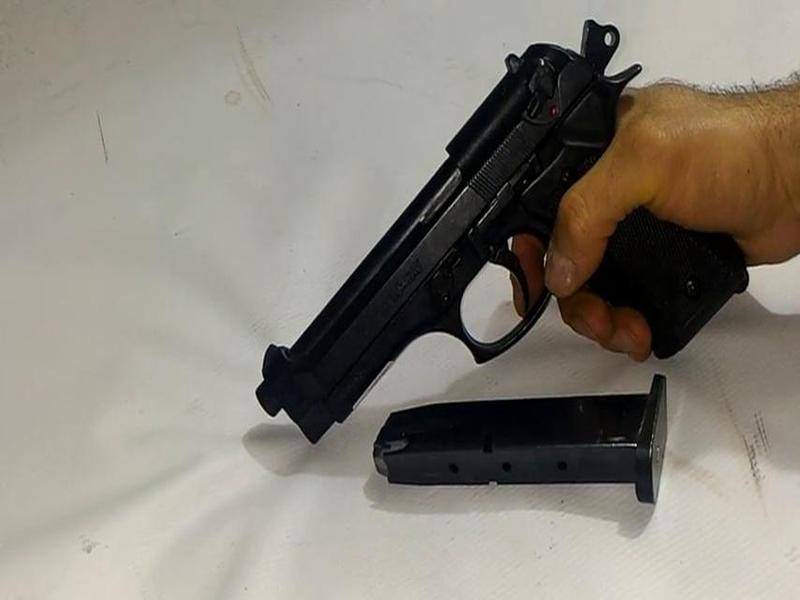Pistola: (198, 11, 767, 475)
